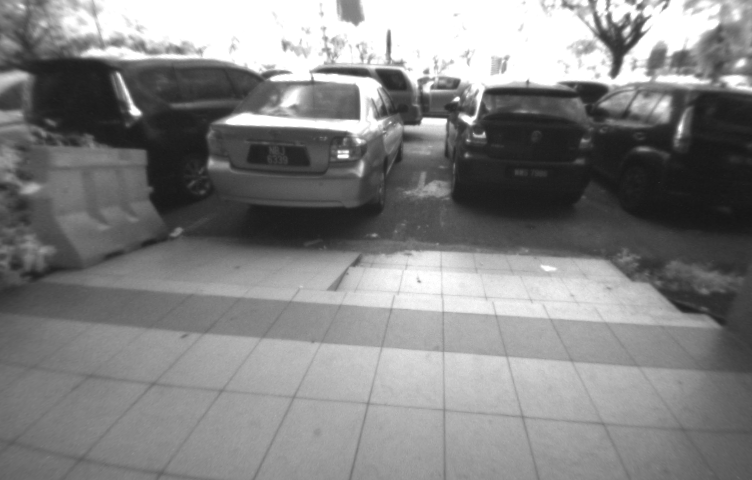down_steps: (335, 241, 733, 340)
mixed_gradient: (300, 238, 387, 313)
